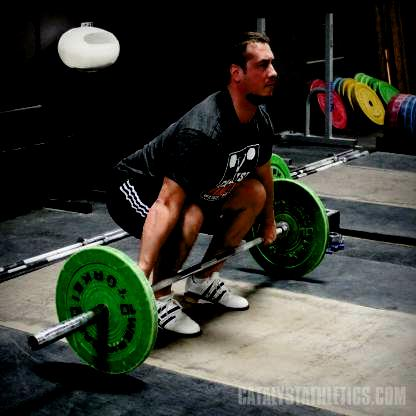Barbell: (24, 333, 42, 355)
